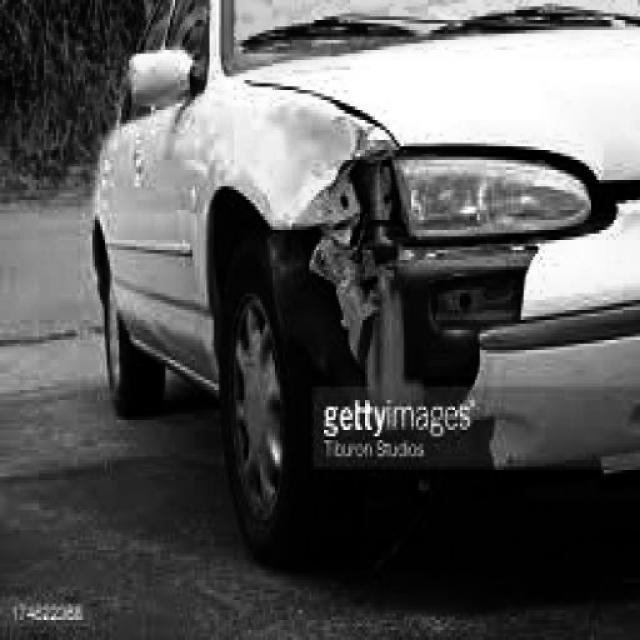car damage: (244, 77, 615, 491)
